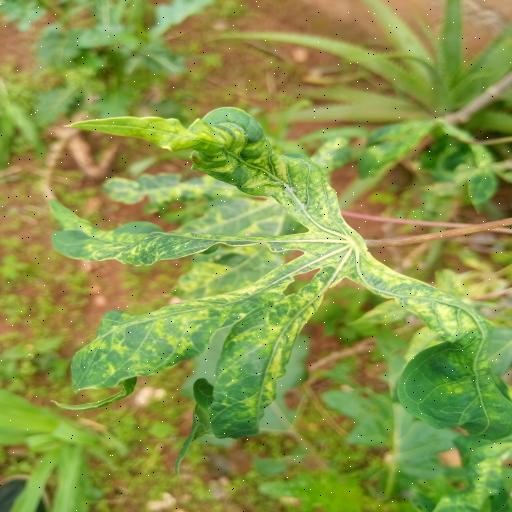Cassava_Mosaic: (46, 106, 512, 453)
